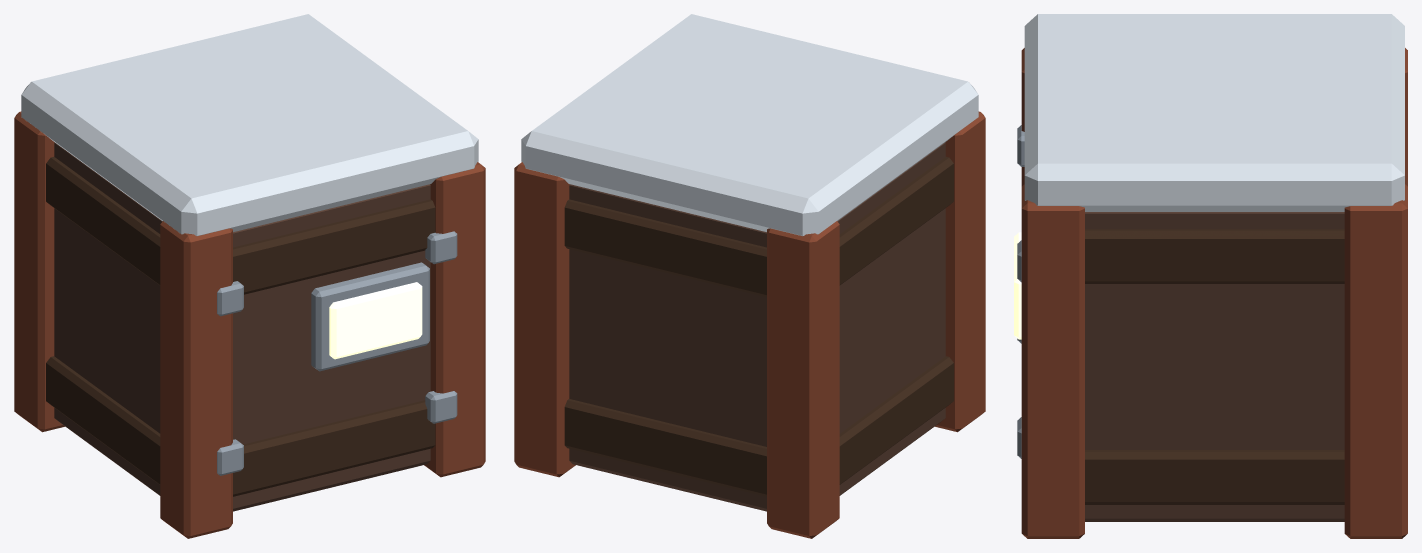
File: Prop_Crate.fbx
3 renders of one model, left to right at view 1: azimuth 30°, elevation 25°; view 2: azimuth 150°, elevation 25°; view 3: azimuth 270°, elevation 25°, orthographic. The views are drawn at different scales.
Parts seen in each view (by area): view 1: Prop_Crate; view 2: Prop_Crate; view 3: Prop_Crate.
Part boxes in pixels (x1=…): Prop_Crate: x1=14, y1=14, x2=485, y2=538; Prop_Crate: x1=514, y1=14, x2=985, y2=538; Prop_Crate: x1=1014, y1=14, x2=1407, y2=538.
Bounding box in the file's own units: 79.24 × 84 × 80.82.
